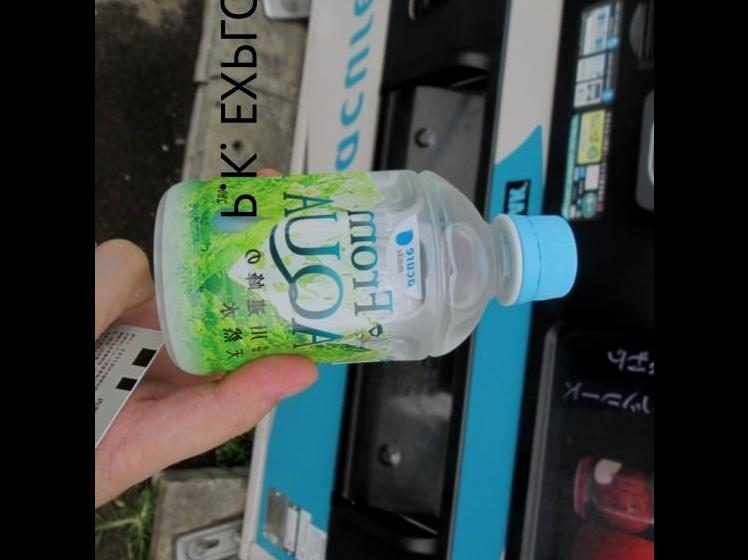bottle: (146, 162, 590, 386)
